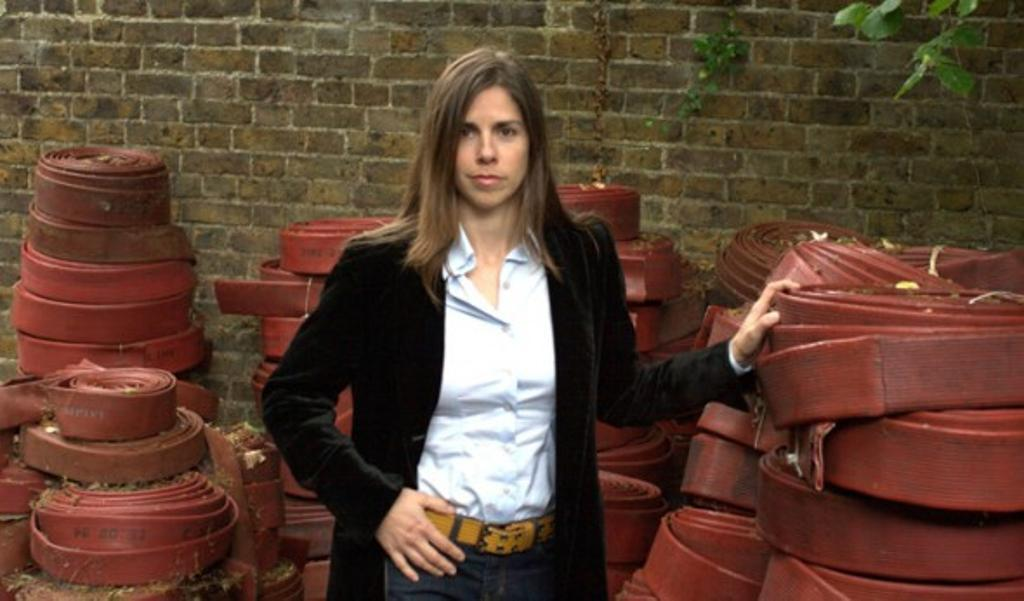face: (449, 91, 531, 205)
